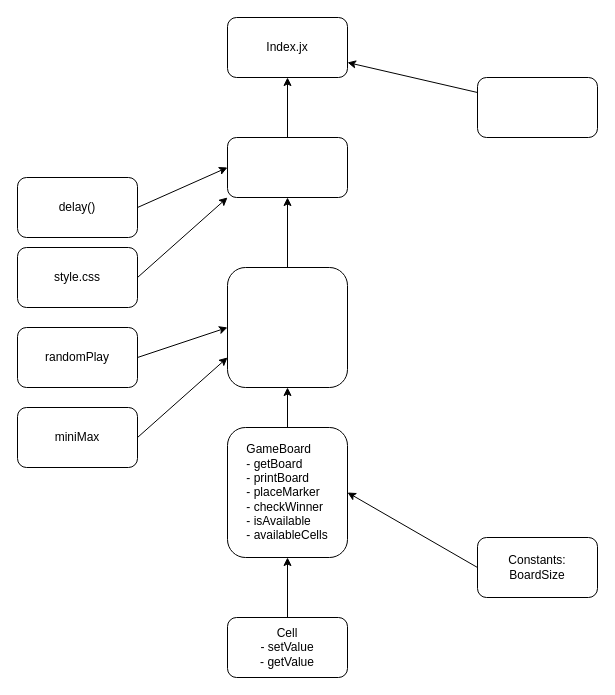
Some shapes in this 615 by 695 pixel diagram are drawn without their labels. The shapes that lost their labels are listed below. From the top down, each one's centre as x and y in pixels, then its label:
(537,107): Players - setPlayers - getPlayers
(287,167): ScreenController()
(287,327): GameController - playRound() - getActivePlayer() - board.getBoard
